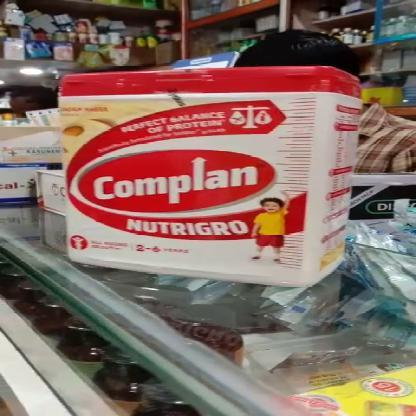Complan Nutrigro Badam Kheer: (59, 72, 330, 270)
